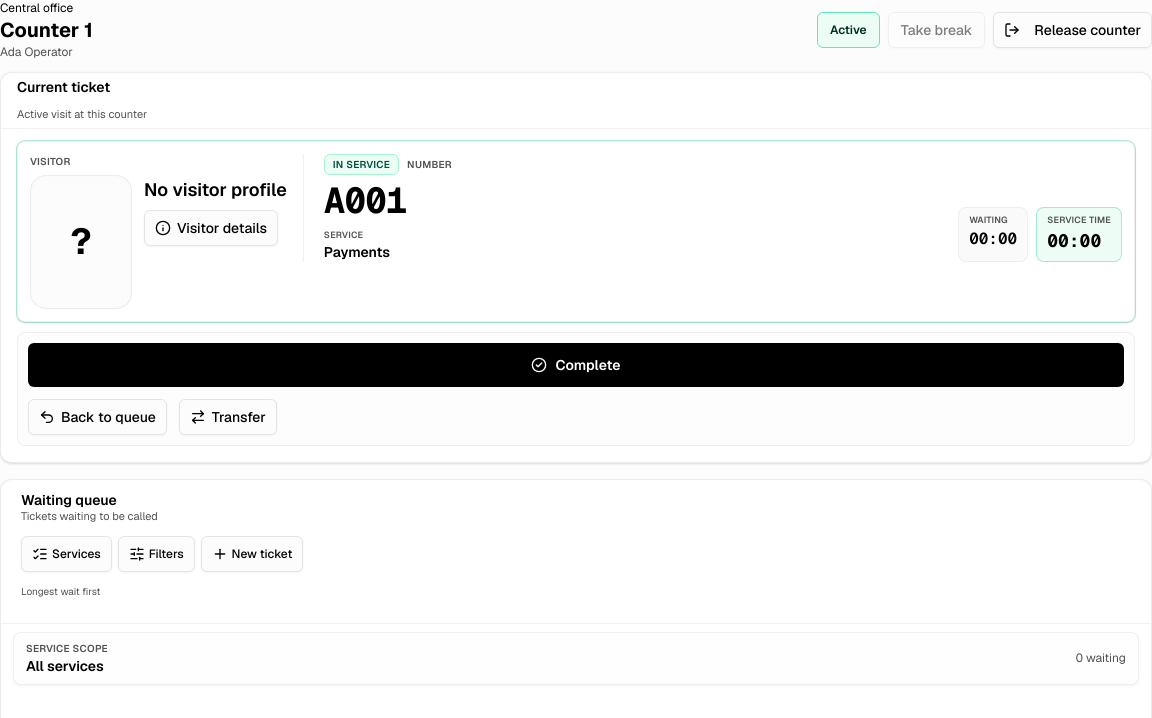
Scenario: StaffWorkspacePage integration › renders Complete primary with transfer and return secondary actions in service
This screenshot has width=1152, height=718.
Check: the button "Transfer" is shown, box x1=179 y1=399 x2=277 y2=435
Check: the button "Back to queue" is shown, box x1=28 y1=399 x2=167 y2=435
Step 1. Click the button "Complete" → (576, 365), box x1=28 y1=343 x2=1124 y2=387
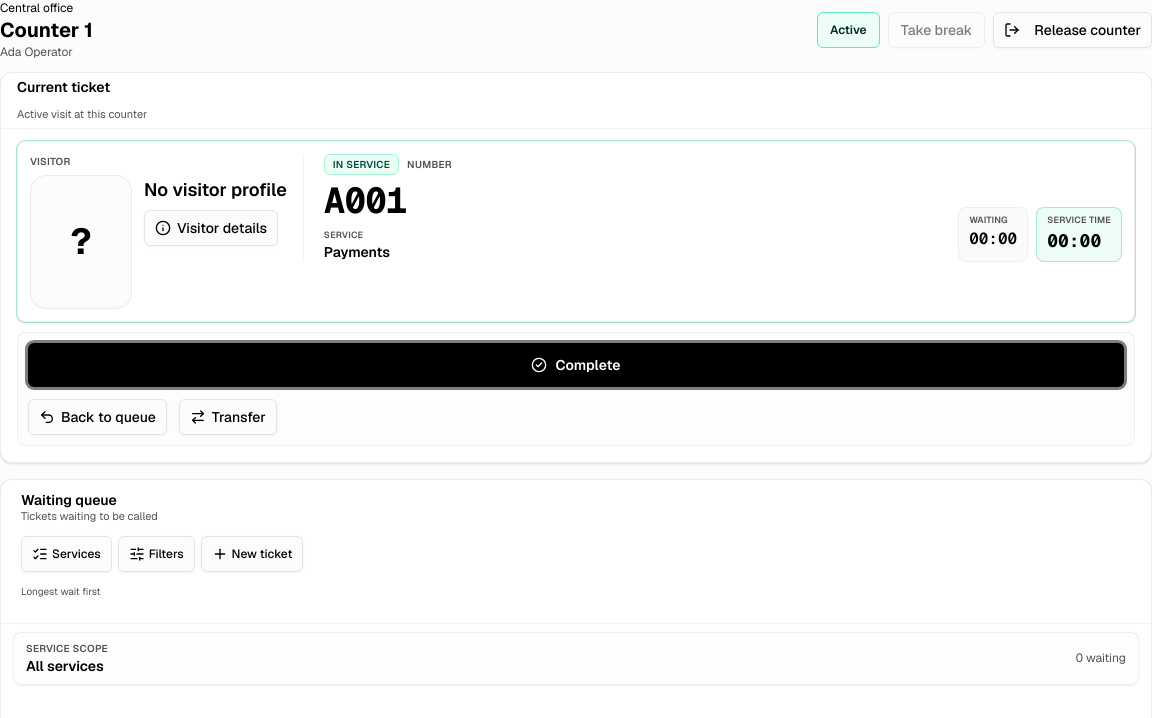
Step 2. Click the button "Back to queue" → (97, 417), box x1=28 y1=399 x2=167 y2=435
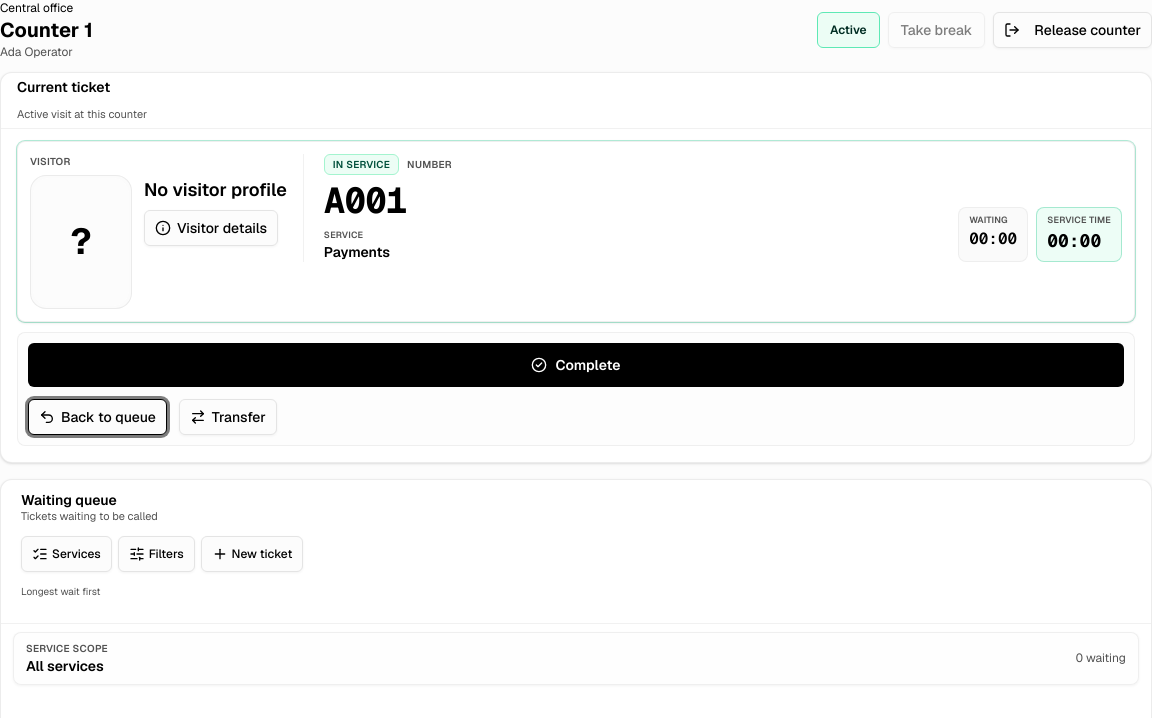
Step 3. Click the button "Transfer" → (228, 417), box x1=179 y1=399 x2=277 y2=435
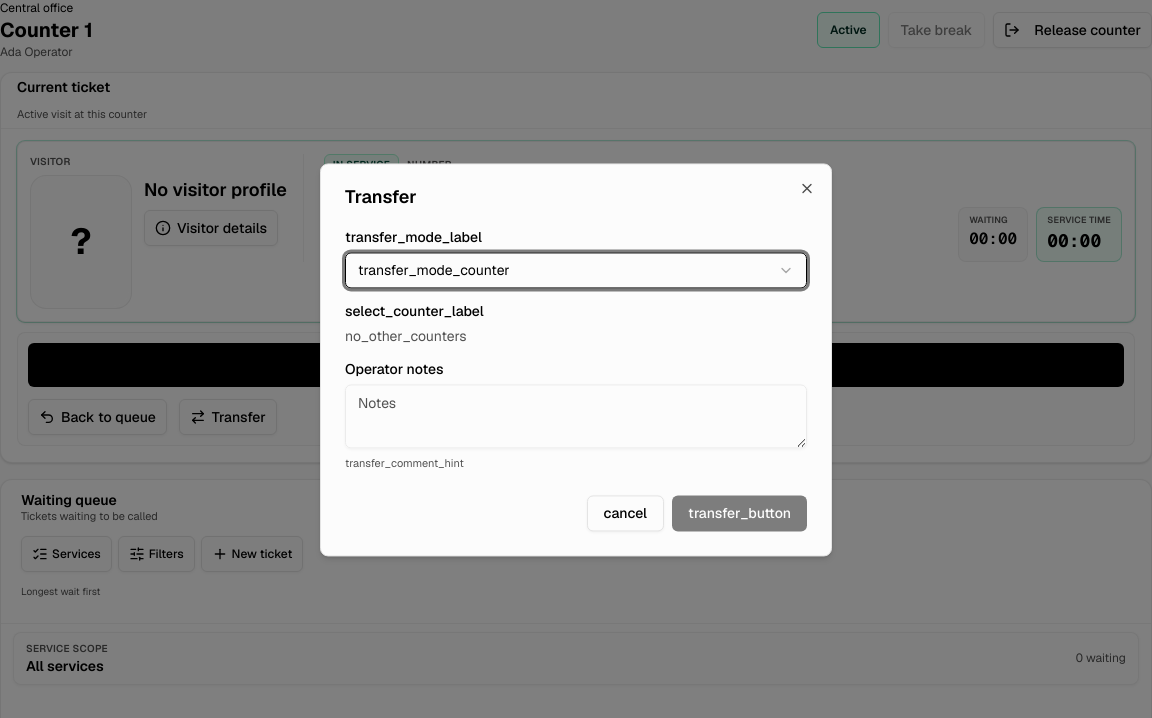
Check: the dialog is shown, box x1=320 y1=163 x2=832 y2=556
